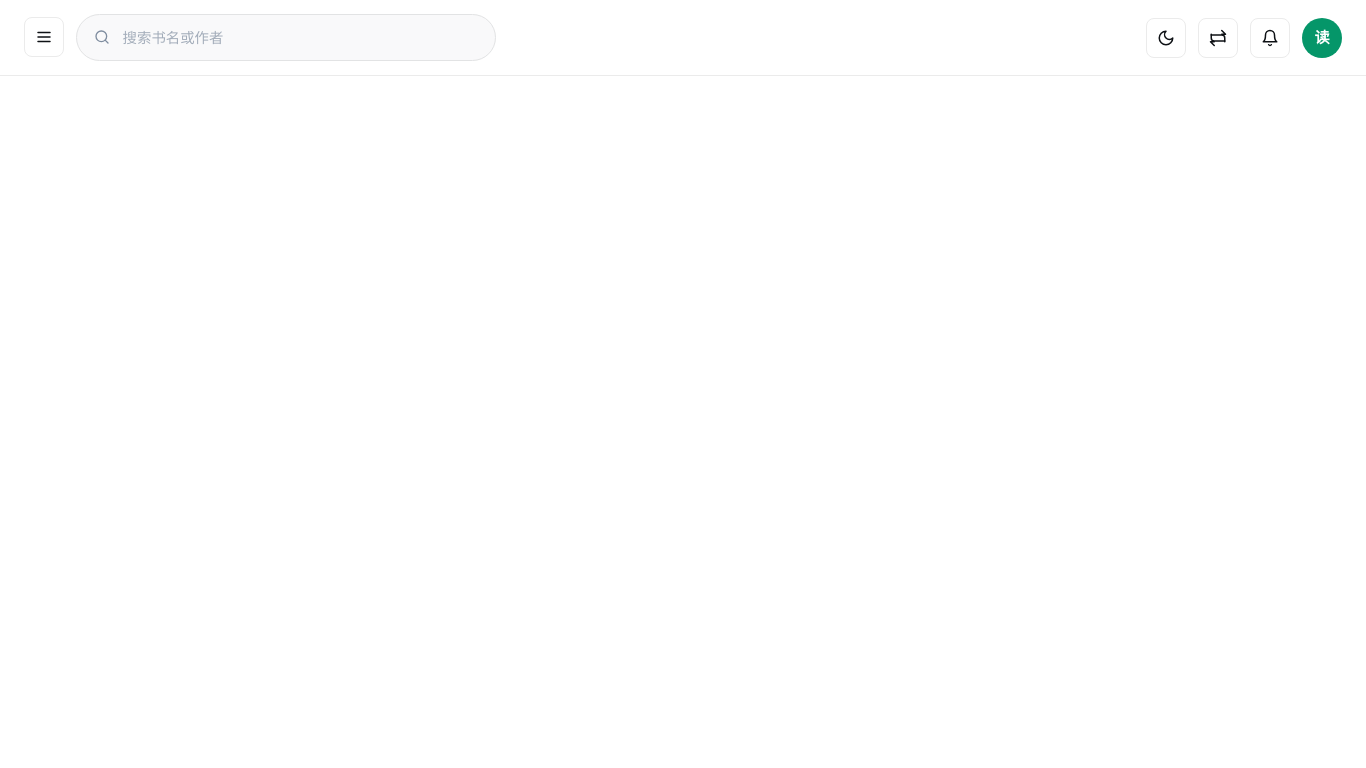
Test: 未读笔记那一句 › 划线读失败时说「这一次没读出来」，不替用户断言他没有新笔记
The width and height of the screenshot is (1366, 768).
Click the button named "通知" at (1270,38), box [1250,18,1290,58]
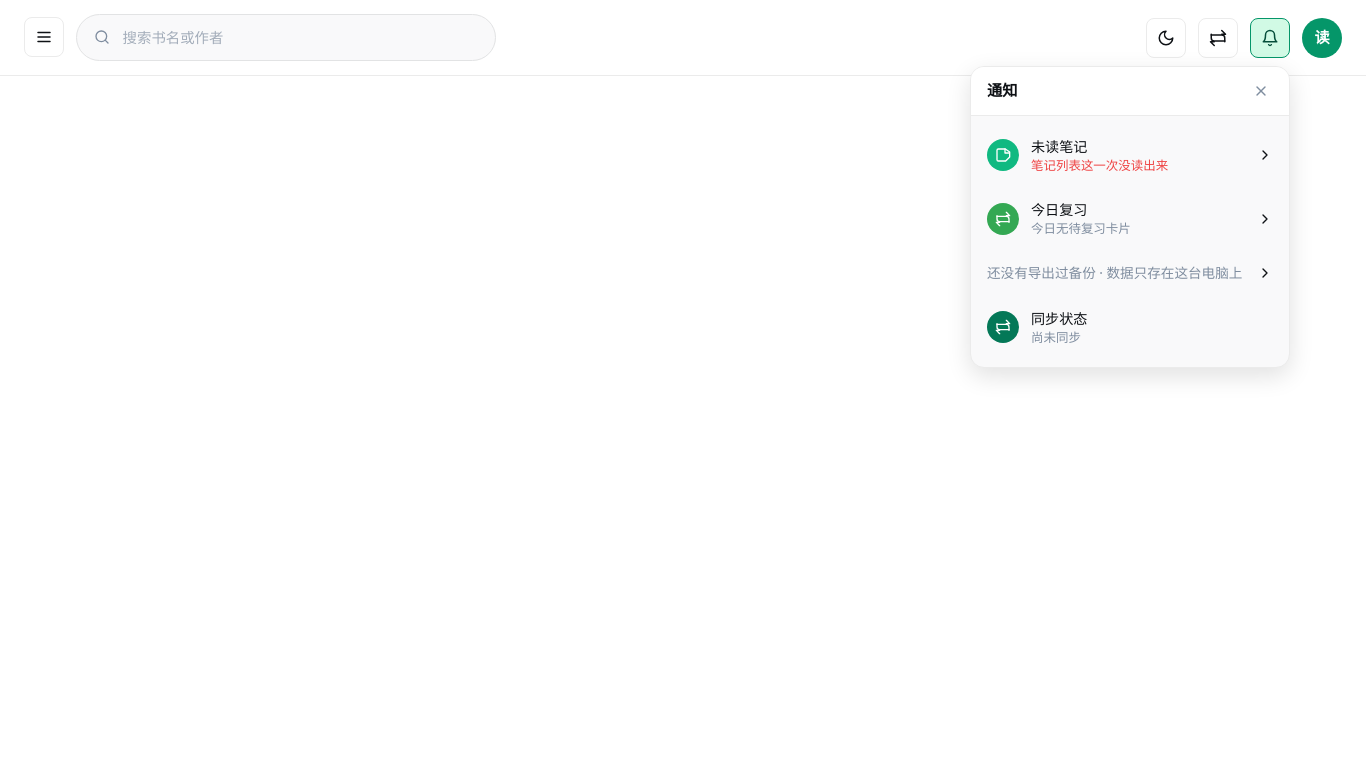
Expected: the dialog "通知" is shown, [970,66,1290,368]
Expected: the text "笔记列表这一次没读出来" is shown, [1031,157,1168,174]
